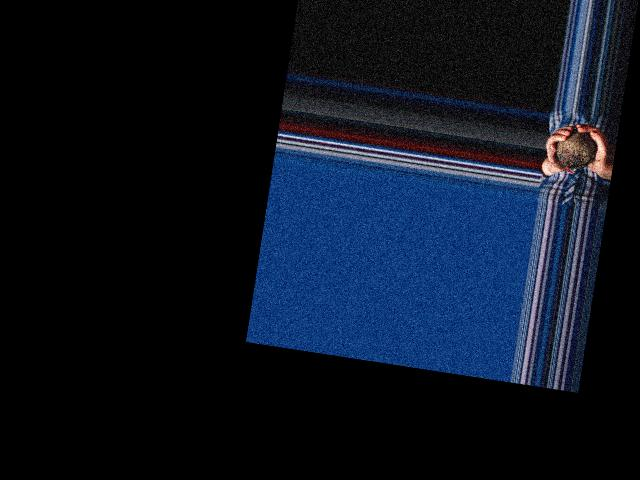beet: (553, 128, 598, 177)
